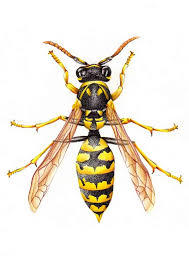chax: (2, 35, 189, 227)
